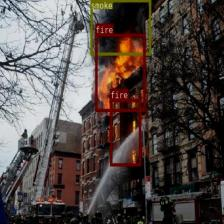fire: (95, 34, 145, 111), (110, 99, 140, 166)
smoke: (90, 0, 150, 54)
